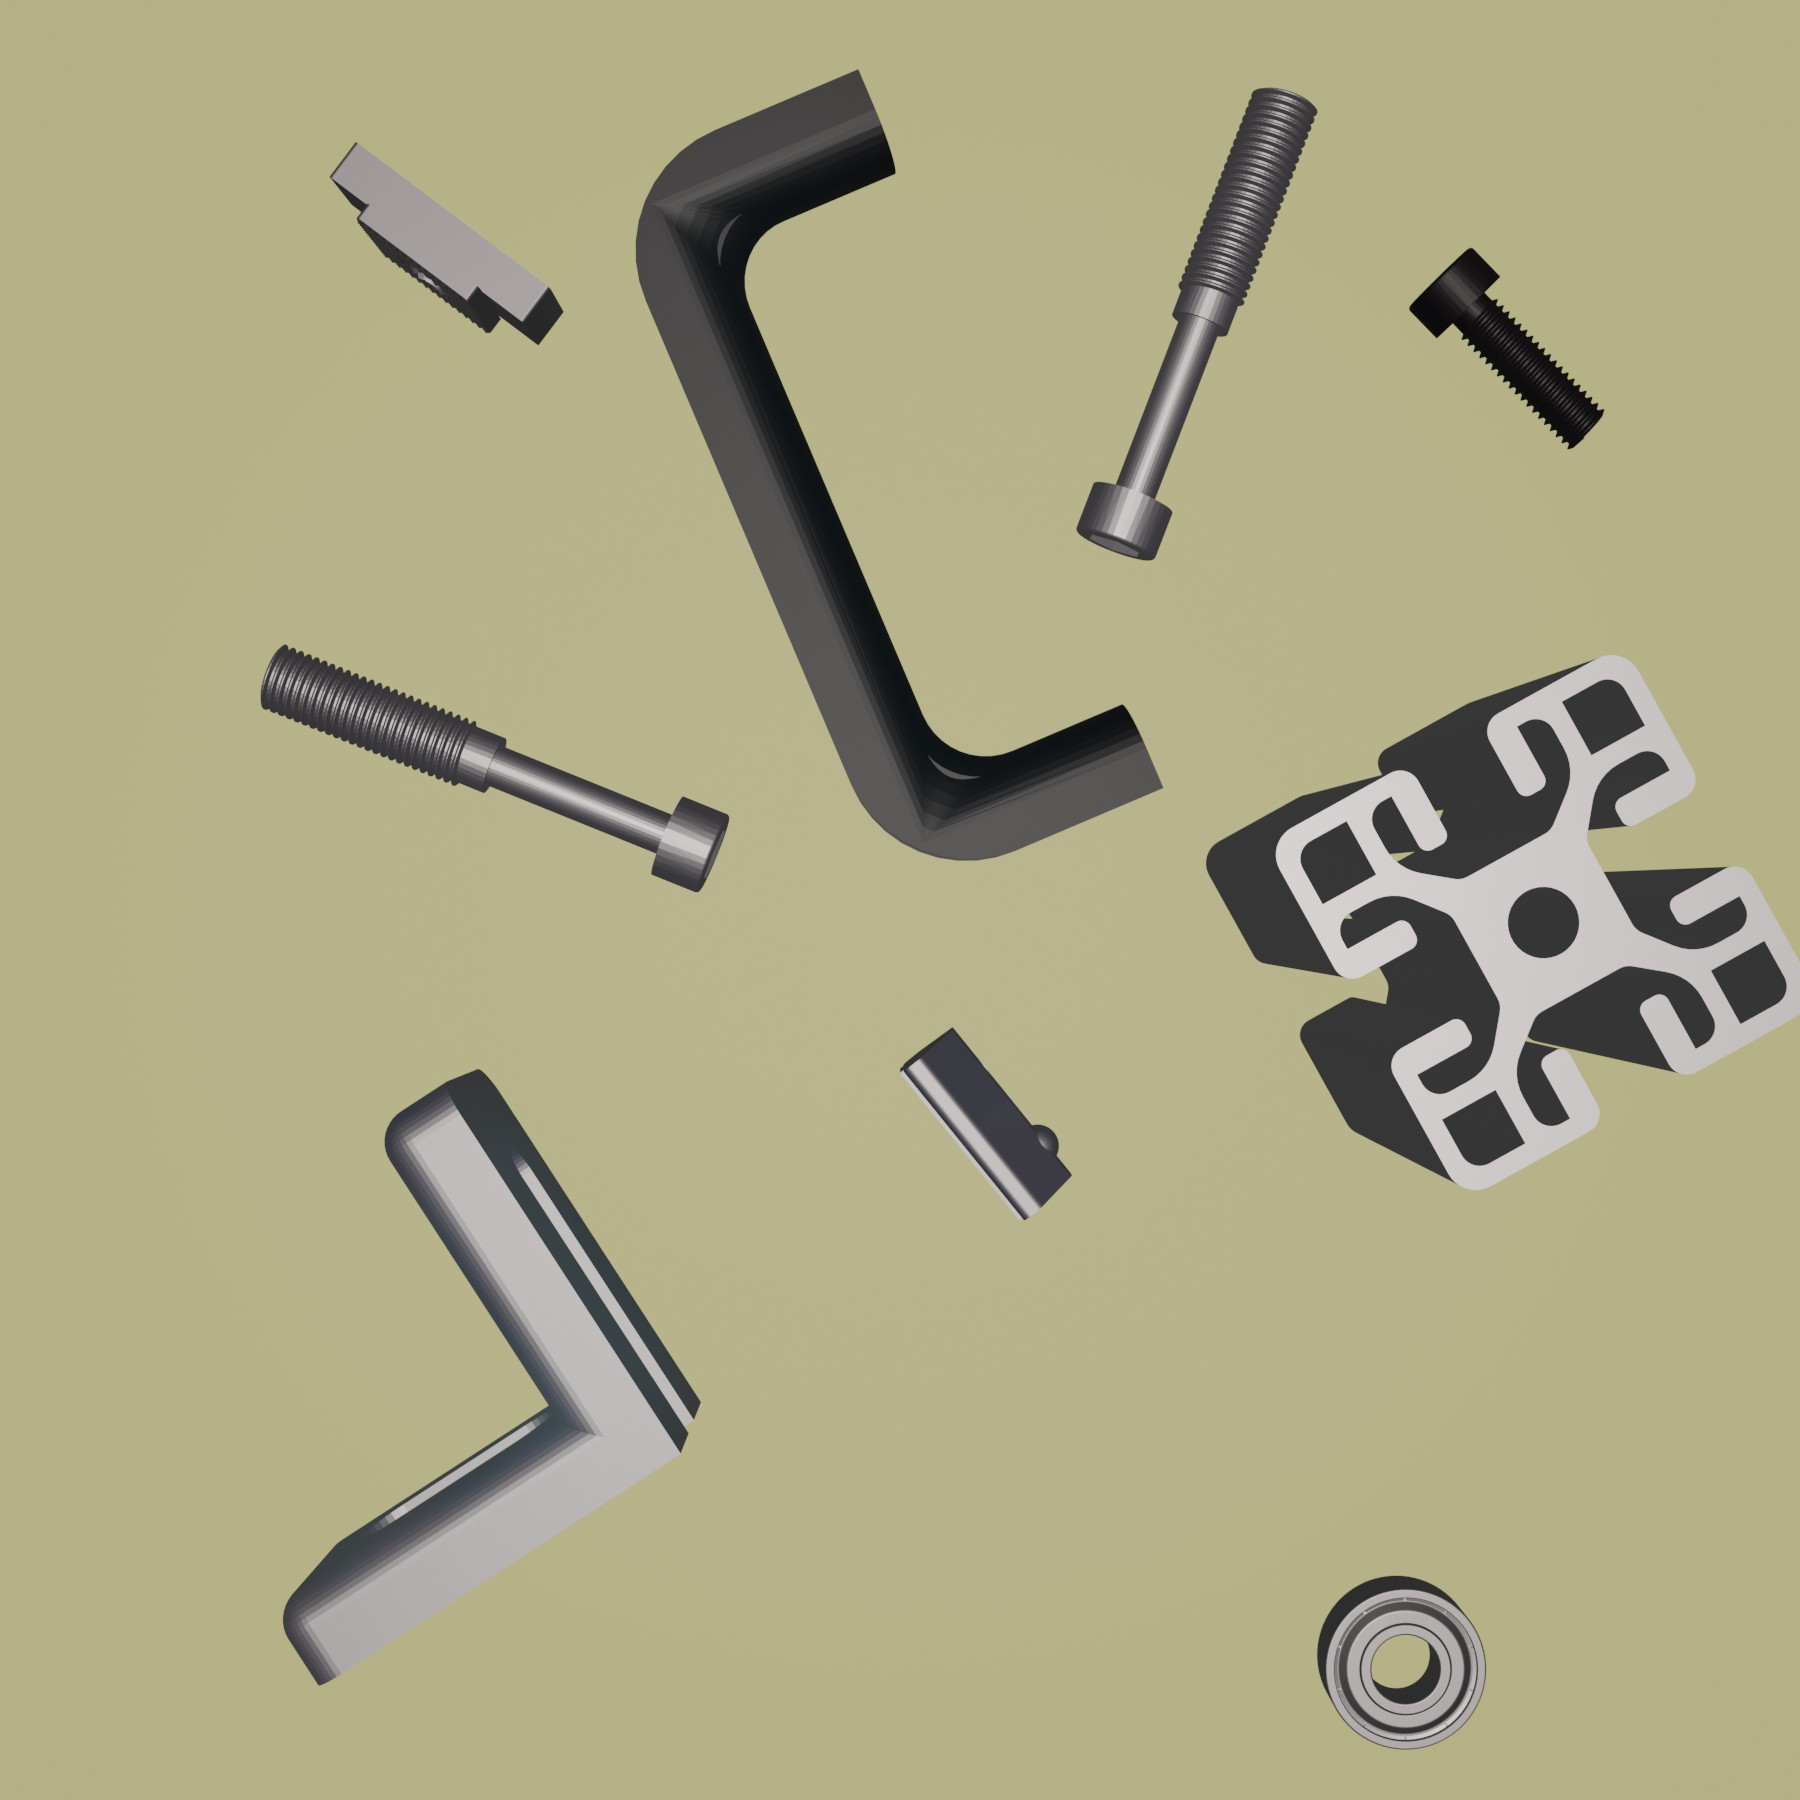Aluminium Extension: (1203, 649, 1800, 1195)
Ball Bearing: (1312, 1573, 1488, 1754)
Multiwinkel: (280, 1065, 701, 1688)
Pull Handle: (631, 64, 1164, 862)
Shoulder Socket Head Cap Screw: (255, 641, 730, 892), (1075, 84, 1320, 562)
Socket Head Cap Screw: (1404, 246, 1605, 453)
T Nut Square: (326, 138, 565, 345)
T Spring Nut: (893, 1025, 1075, 1223)
